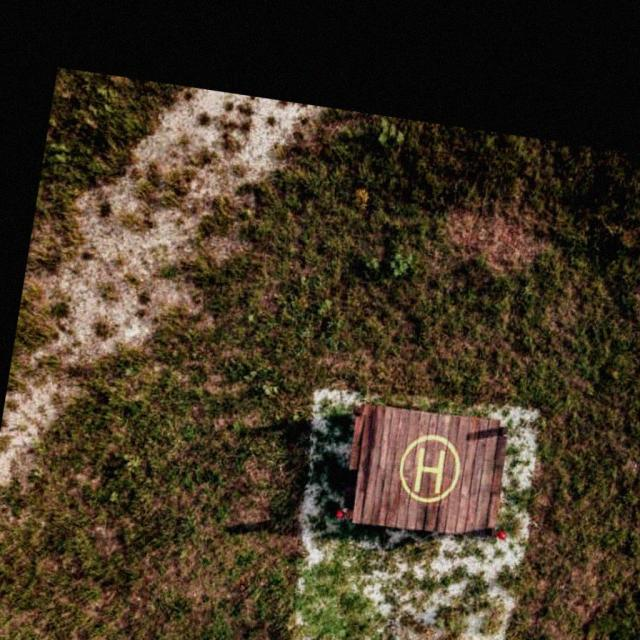helipad: (396, 432, 462, 505)
